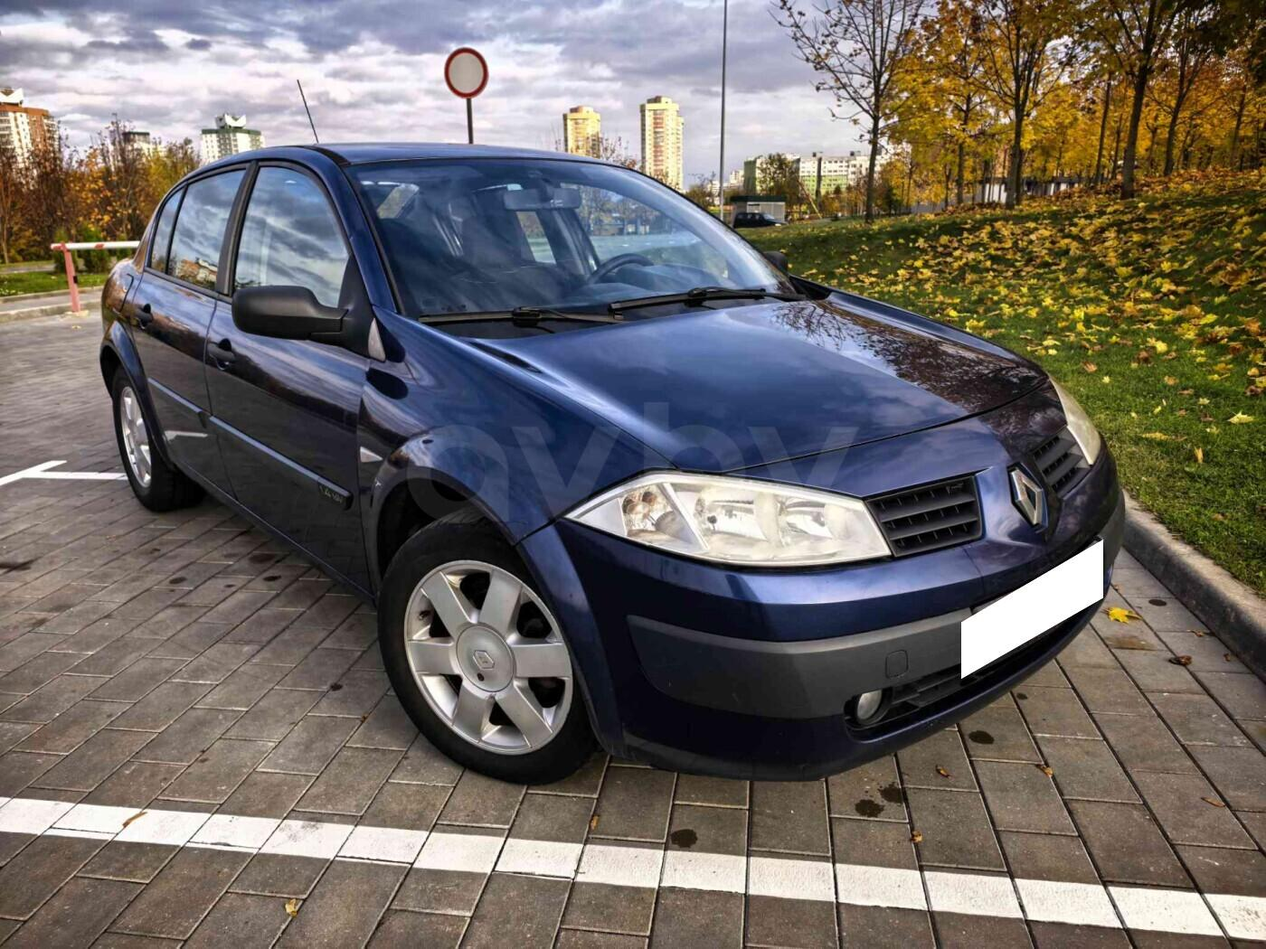Megane_2002-2006: (90, 138, 1139, 794)
